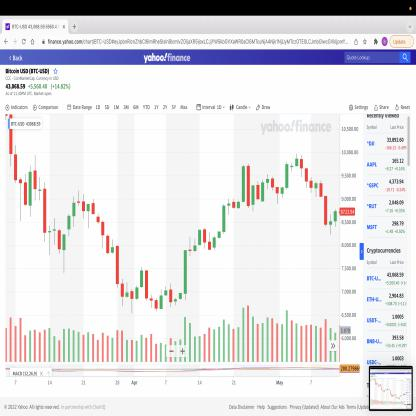Bearish: Evening Star Doji: (72, 186, 86, 233)
Bearish: Tweezer Top: (241, 162, 251, 211)
Bullish: Engulfing: (22, 162, 32, 220)
